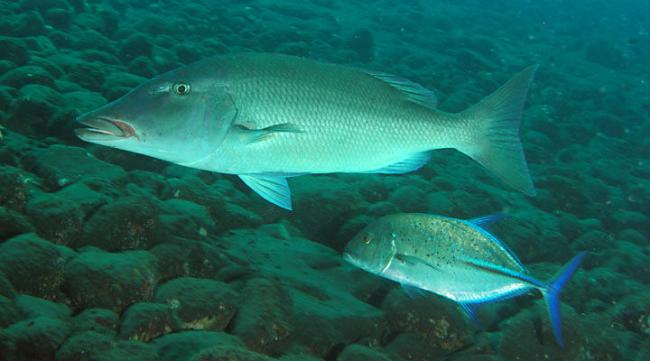fish: (74, 51, 539, 211), (342, 211, 588, 348)
